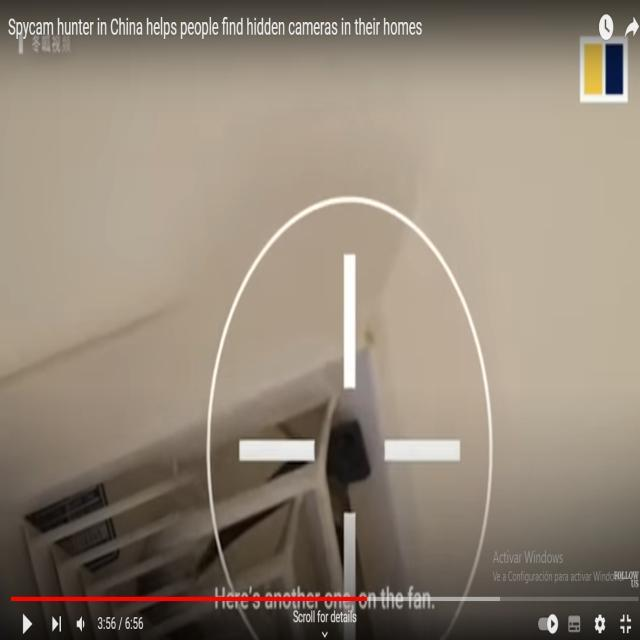hidden camera: (337, 428, 363, 469)
